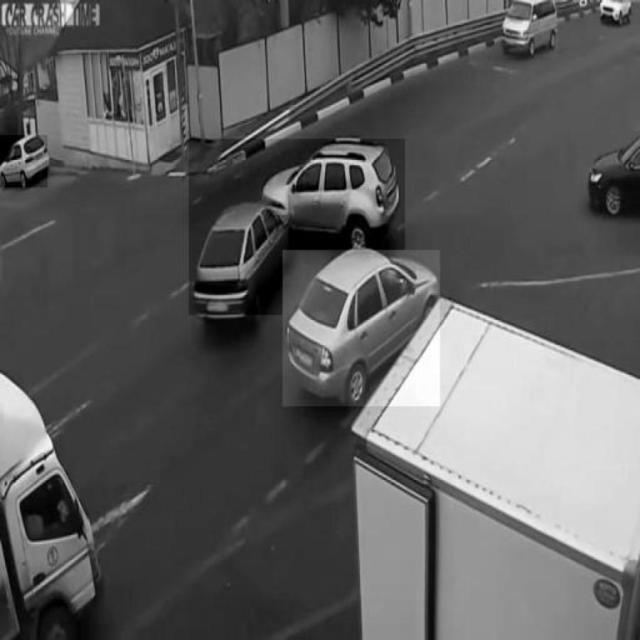accident: (189, 139, 405, 315)
vehicle: (283, 250, 440, 406), (504, 0, 558, 57), (0, 136, 47, 188)
